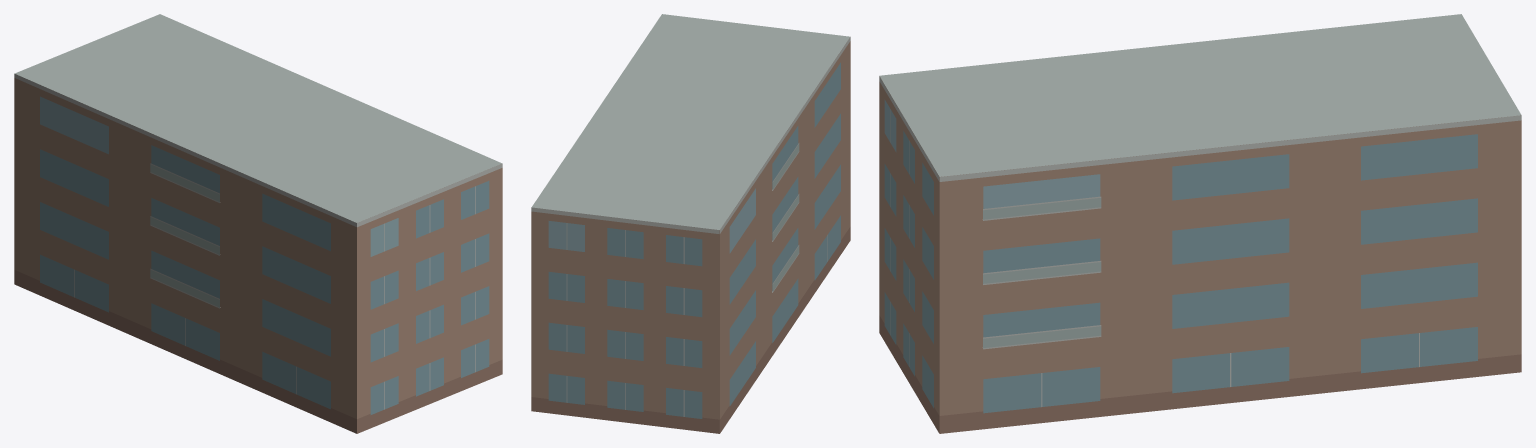
Rendered from residential-5955028b-18e2-4d6b-8193-875ef194b541.glb.
The picture shows the model from 3 angles, left to right: view 1: azimuth 30°, elevation 25°; view 2: azimuth 150°, elevation 25°; view 3: azimuth 270°, elevation 25°; orthographic projection. The views are drawn at different scales.
Visible parts, largest first — view 1: residential-5955028b-18e2-4d6b-8193-875ef194b541.tmp; view 2: residential-5955028b-18e2-4d6b-8193-875ef194b541.tmp; view 3: residential-5955028b-18e2-4d6b-8193-875ef194b541.tmp.
Part boxes in pixels (x1=…): residential-5955028b-18e2-4d6b-8193-875ef194b541.tmp: x1=14, y1=14, x2=502, y2=433; residential-5955028b-18e2-4d6b-8193-875ef194b541.tmp: x1=531, y1=14, x2=850, y2=433; residential-5955028b-18e2-4d6b-8193-875ef194b541.tmp: x1=879, y1=14, x2=1521, y2=433.
Size of the model in its own units: 16.6 by 12.2 by 27.65.
